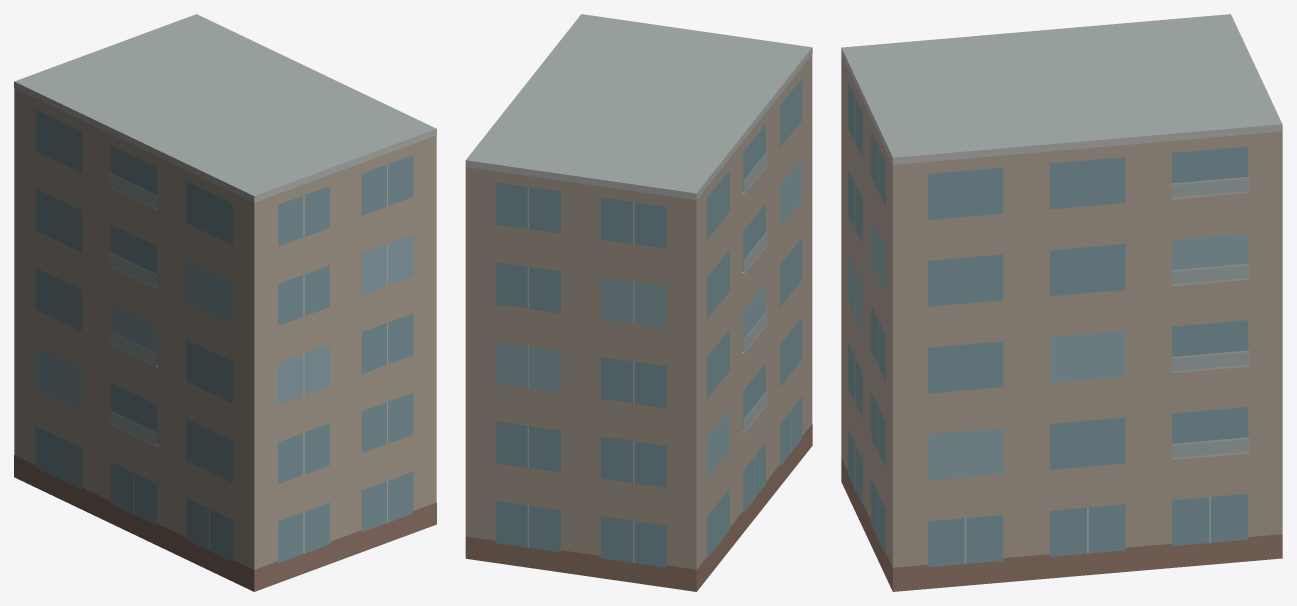
File: survey-upis-32967644.glb
3 renders of one model, left to right at view 1: azimuth 30°, elevation 25°; view 2: azimuth 150°, elevation 25°; view 3: azimuth 270°, elevation 25°, orthographic. The views are drawn at different scales.
Visible parts, largest first — view 1: survey-upis-32967644.tmp; view 2: survey-upis-32967644.tmp; view 3: survey-upis-32967644.tmp.
Boxes of the visible parts, bbox=[...] form: survey-upis-32967644.tmp: bbox=[14, 14, 436, 591]; survey-upis-32967644.tmp: bbox=[465, 14, 812, 591]; survey-upis-32967644.tmp: bbox=[841, 14, 1282, 591].
Size of the model in its own units: 10.45 by 14.7 by 13.55.
